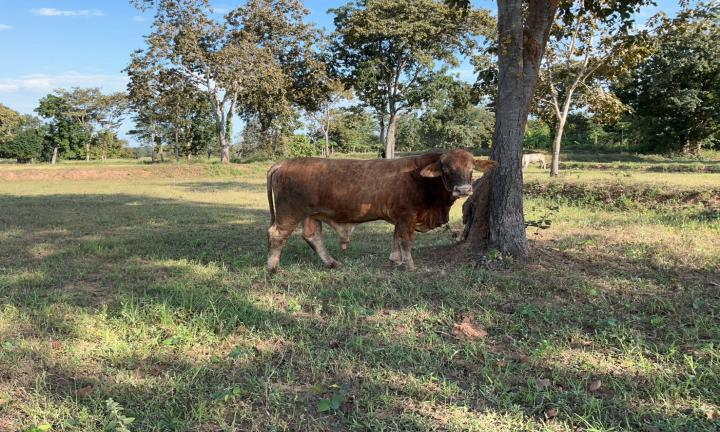Charolais: (267, 149, 499, 272)
